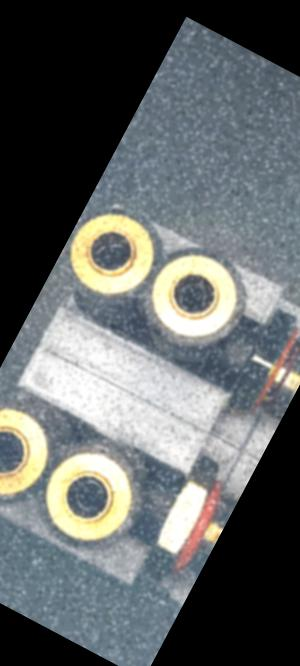bump: (119, 501, 142, 528), (123, 472, 140, 488)
off-centered: (165, 269, 220, 322), (85, 231, 133, 278)
white mark: (154, 509, 168, 523)
